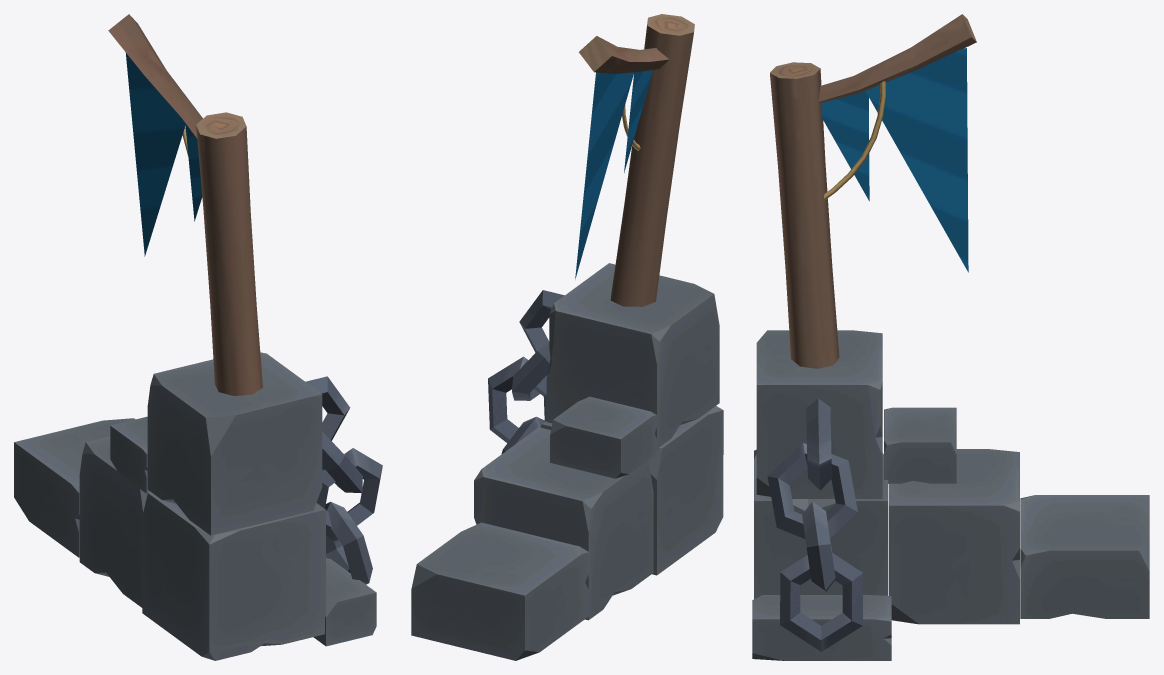
Rendered from Wall1B-001_40_16_2889.fbx.
The picture shows the model from 3 angles, left to right: view 1: azimuth 30°, elevation 25°; view 2: azimuth 150°, elevation 25°; view 3: azimuth 270°, elevation 25°; orthographic projection.
Visible parts, largest first — view 1: 1B_Wall1, WoodFat1 (1), Flag1 (1), Wood1.002 (1), ChainLink (5), ChainLink (8), ChainLink (7), ChainLink (6), Flag1 (2); view 2: 1B_Wall1, WoodFat1 (1), Flag1 (1), Wood1.002 (1), ChainLink (8), ChainLink (7), ChainLink (6), Flag1 (2), ChainLink (5); view 3: 1B_Wall1, WoodFat1 (1), Flag1 (1), ChainLink (5), Wood1.002 (1), ChainLink (7), Flag1 (2), ChainLink (6), ChainLink (8), Rope2 (1).
Boxes of the visible parts, <box> form: 1B_Wall1: <box>14,352,376,660</box>; WoodFat1 (1): <box>196,112,262,395</box>; Flag1 (1): <box>125,52,185,256</box>; Wood1.002 (1): <box>108,14,202,138</box>; ChainLink (5): <box>325,501,372,584</box>; ChainLink (8): <box>316,448,382,541</box>; ChainLink (7): <box>322,431,362,493</box>; ChainLink (6): <box>305,376,350,440</box>; Flag1 (2): <box>185,123,202,221</box>; 1B_Wall1: <box>411,263,723,660</box>; WoodFat1 (1): <box>610,14,694,306</box>; Flag1 (1): <box>575,72,633,279</box>; Wood1.002 (1): <box>579,36,669,73</box>; ChainLink (8): <box>488,356,547,443</box>; ChainLink (7): <box>512,343,550,400</box>; ChainLink (6): <box>519,290,564,352</box>; Flag1 (2): <box>624,70,652,172</box>; ChainLink (5): <box>501,416,544,453</box>; 1B_Wall1: <box>752,330,1149,660</box>; WoodFat1 (1): <box>770,62,839,368</box>; Flag1 (1): <box>865,48,968,272</box>; ChainLink (5): <box>780,553,862,651</box>; Wood1.002 (1): <box>818,14,976,102</box>; ChainLink (7): <box>767,443,857,538</box>; Flag1 (2): <box>821,91,869,201</box>; ChainLink (6): <box>806,398,832,490</box>; ChainLink (8): <box>802,501,835,592</box>; Rope2 (1): <box>824,81,885,199</box>.
Bounding box in the file's own units: 1.78 × 4.77 × 2.98.
